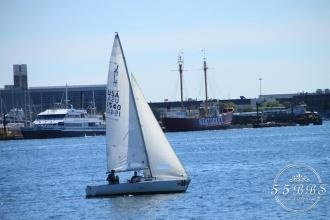fanchuan: (84, 32, 190, 198)
